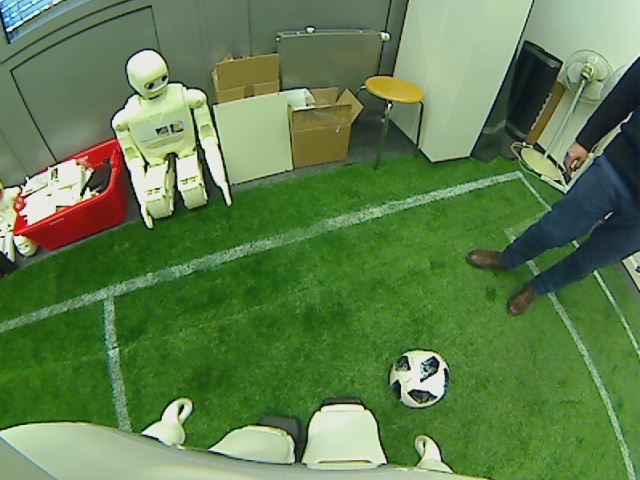ball: (386, 348, 449, 408)
